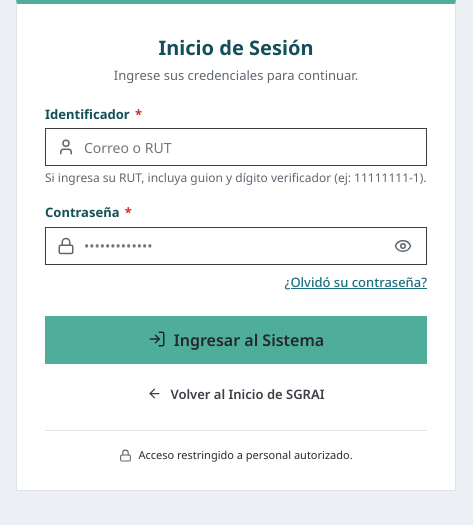
Test: LoginForm › debe validar algoritmo de RUT chileno (Módulo 11) si no contiene arroba
The width and height of the screenshot is (473, 525).
In the field labelled "Identificador *": (236, 147) left=45, top=128, right=427, bottom=166, type "11111111-9"
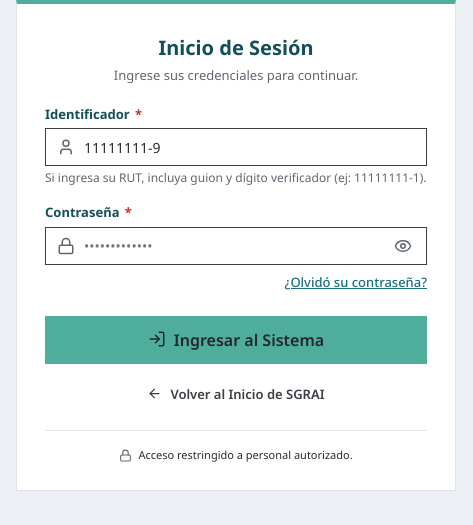
In the password field labelled "Contraseña *": (236, 246) left=45, top=227, right=427, bottom=265, type "Valdivia2026!"
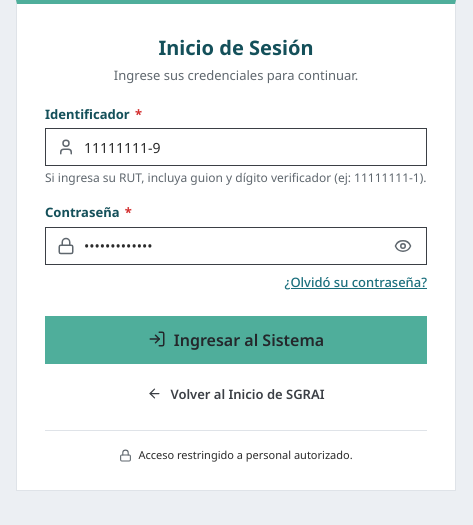
Click the button "Ingresar al Sistema": (236, 340) left=45, top=316, right=427, bottom=364
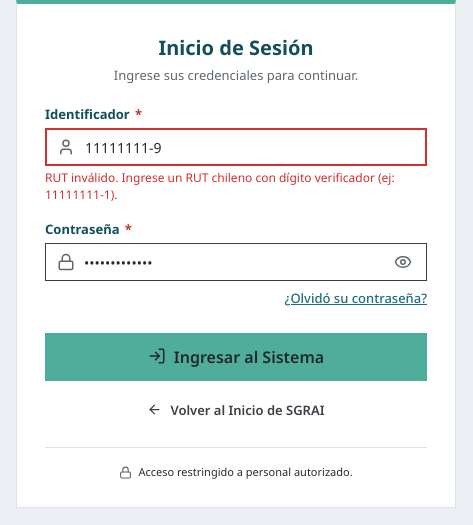
expect the text "RUT inválido. Ingrese un RUT chileno con dígito verificador (ej: 11111111-1)." is shown: met, box left=45, top=170, right=427, bottom=204
